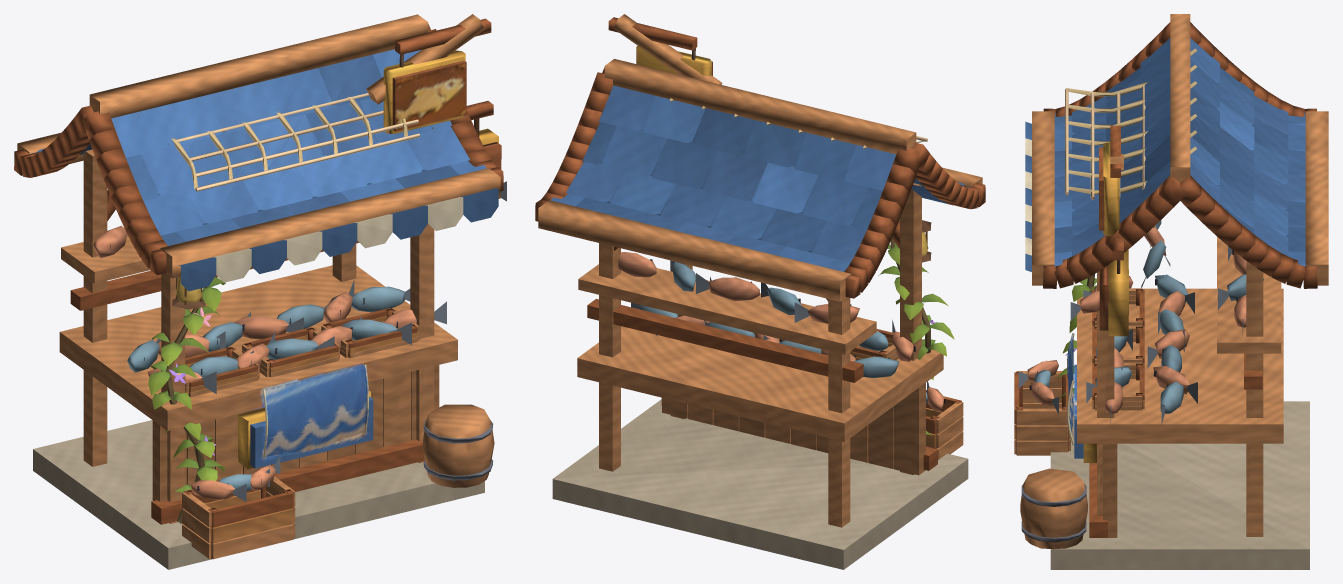
The model's file is stall_fish.glb.
3 views of the same model, side by side, from view 1: azimuth 30°, elevation 25°; view 2: azimuth 150°, elevation 25°; view 3: azimuth 270°, elevation 25° (orthographic). The views are drawn at different scales.
Visible parts, largest first — view 1: Body; view 2: Body; view 3: Body.
Part boxes in pixels (x1,y1,x2,y2): Body: (14,14,506,569); Body: (535,14,985,569); Body: (1014,14,1328,569).
Bounding box in the file's own units: 2.9 × 3.27 × 2.19.
Materials: 1 (1 with a texture image).
